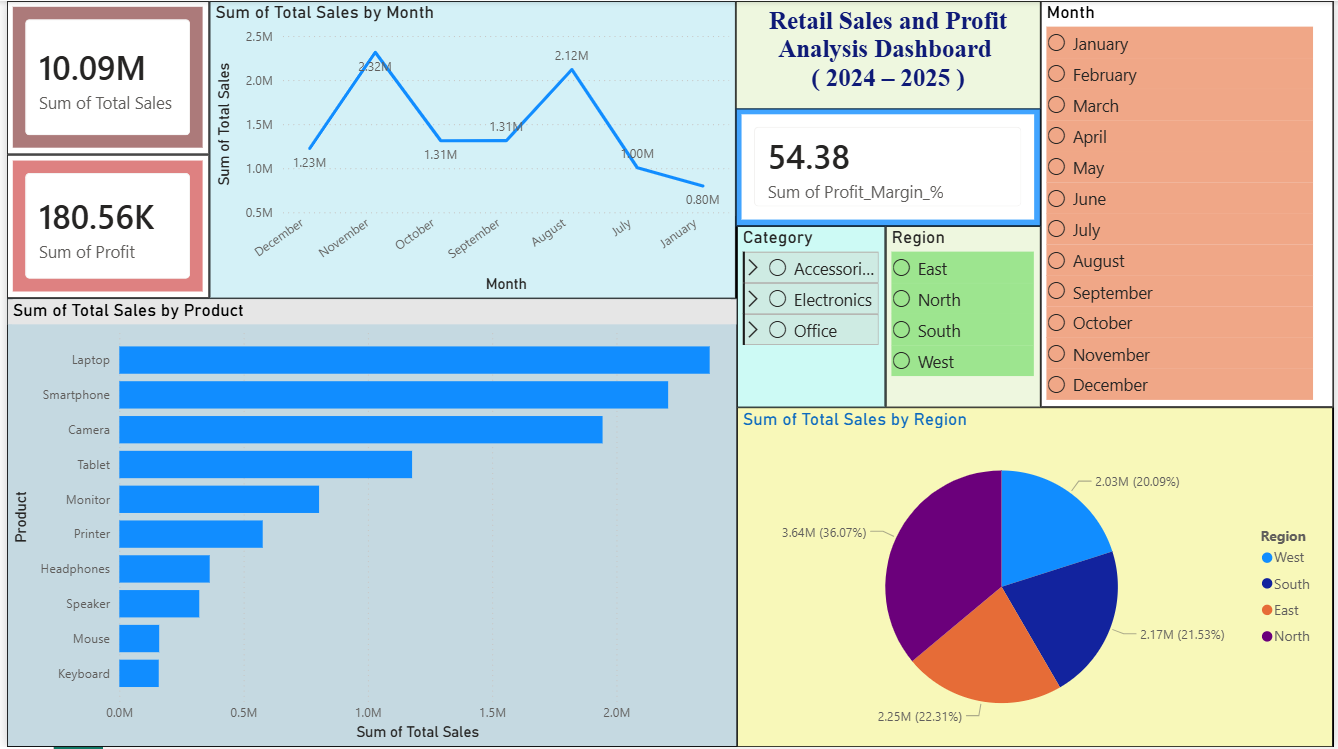

The dashboard page shown, as its layout file describes it:
{"tool":"powerbi","page":{"name":"Page 1","canvas":[1280,720],"ordinal":0},"visuals":[{"type":"cardVisual","fields":{"Data":["Sum(CLEANED DATA.Total Sales)"]},"box":[0,0,195.4,148.4],"z":0},{"type":"cardVisual","fields":{"Data":["Sum(CLEANED DATA.Profit)"]},"box":[0,148.4,195.4,138.7],"z":1000},{"type":"clusteredBarChart","fields":{"Category":["CLEANED DATA.Product"],"Y":["Sum(CLEANED DATA.Total Sales)"]},"box":[0,287.1,704.6,433.1],"z":2000},{"type":"lineChart","fields":{"Category":["CLEANED DATA.Order_Date.Variation.Date Hierarchy.Month"],"Y":["Sum(CLEANED DATA.Total Sales)"]},"box":[195.4,0,507.9,287.1],"z":3000},{"type":"pieChart","fields":{"Category":["CLEANED DATA.Region"],"Y":["Sum(CLEANED DATA.Total Sales)"]},"box":[704.6,392.1,575.5,328.2],"z":4000},{"type":"listSlicer","fields":{"Values":["CLEANED DATA.Order_Date.Variation.Date Hierarchy.Month"]},"box":[997.7,0,282.3,392.1],"z":5000},{"type":"listSlicer","fields":{"Values":["CLEANED DATA.Region"]},"box":[848.1,217.2,149.6,174.9],"z":6000},{"type":"listSlicer","fields":{"Values":["CLEANED DATA.Category","CLEANED DATA.Product"]},"box":[704.6,217.2,143.6,174.9],"z":7000},{"type":"textbox","box":[703.4,0,294.4,207.5],"z":8000},{"type":"cardVisual","fields":{"Data":["Sum(CLEANED DATA.Profit_Margin_%)"]},"box":[703.4,103.8,294.4,113.4],"z":9000}]}

Visuals, with their boxes in screenshot pixels (x1, y1, x2, y2), scaled from the page's 1280x720 canvas onto the 1338x749 screenshot:
cardVisual - Sum(CLEANED DATA.Total Sales): 0:0:204:154
cardVisual - Sum(CLEANED DATA.Profit): 0:154:204:299
clusteredBarChart - CLEANED DATA.Product x Sum(CLEANED DATA.Total Sales): 0:299:737:748
lineChart - CLEANED DATA.Order_Date.Variation.Date Hierarchy.Month x Sum(CLEANED DATA.Total Sales): 204:0:735:299
pieChart - CLEANED DATA.Region x Sum(CLEANED DATA.Total Sales): 737:408:1337:748
listSlicer - CLEANED DATA.Order_Date.Variation.Date Hierarchy.Month: 1043:0:1337:408
listSlicer - CLEANED DATA.Region: 887:226:1043:408
listSlicer - CLEANED DATA.Category x CLEANED DATA.Product: 737:226:887:408
textbox: 735:0:1043:216
cardVisual - Sum(CLEANED DATA.Profit_Margin_%): 735:108:1043:226
